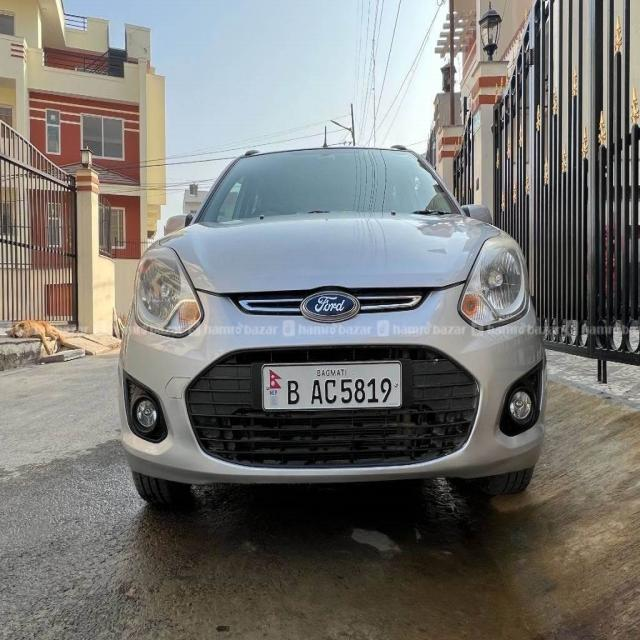License-plate: (264, 358, 402, 407)
